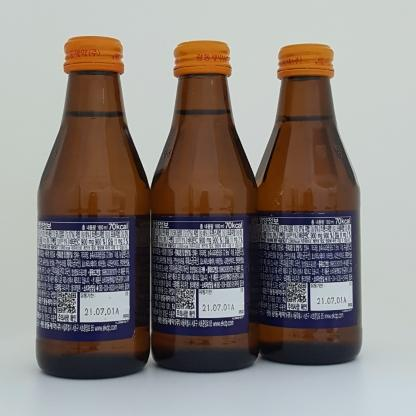-----500---180ML: (36, 36, 151, 380), (151, 40, 259, 373), (252, 42, 362, 366)
